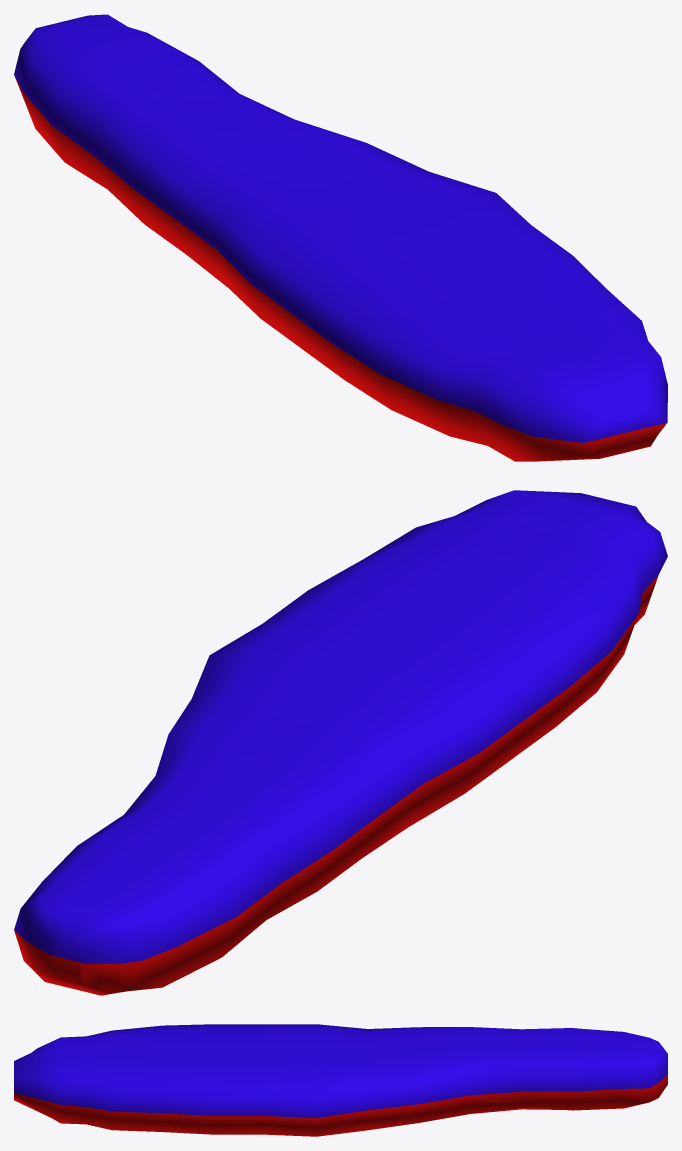
File: Salmone.fbx
3 renders of one model, top to bottom at view 1: azimuth 30°, elevation 25°; view 2: azimuth 150°, elevation 25°; view 3: azimuth 270°, elevation 25°, orthographic. The views are drawn at different scales.
Visible parts, largest first — view 1: Cube; view 2: Cube; view 3: Cube.
Part boxes in pixels (x1,y1,x2,y2): Cube: (14,14,667,461); Cube: (14,490,667,995); Cube: (14,1024,667,1136).
Bounding box in the file's own units: 296 × 103 × 1081.
